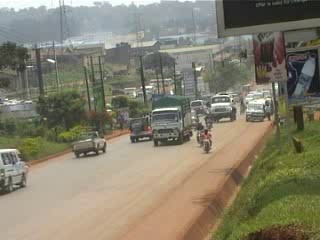Car: (126, 116, 156, 144), (189, 105, 199, 125)
Motorcycle: (201, 128, 213, 154), (203, 112, 216, 132), (194, 119, 204, 144)
